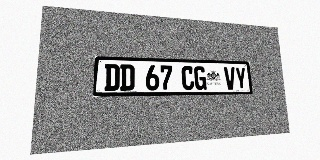6: (146, 65, 159, 90)
7: (159, 65, 173, 90)
C: (181, 66, 194, 90)
D: (104, 64, 120, 91), (120, 64, 135, 91)
G: (194, 66, 207, 90)
V: (224, 67, 236, 90)
Y: (235, 67, 247, 89)
